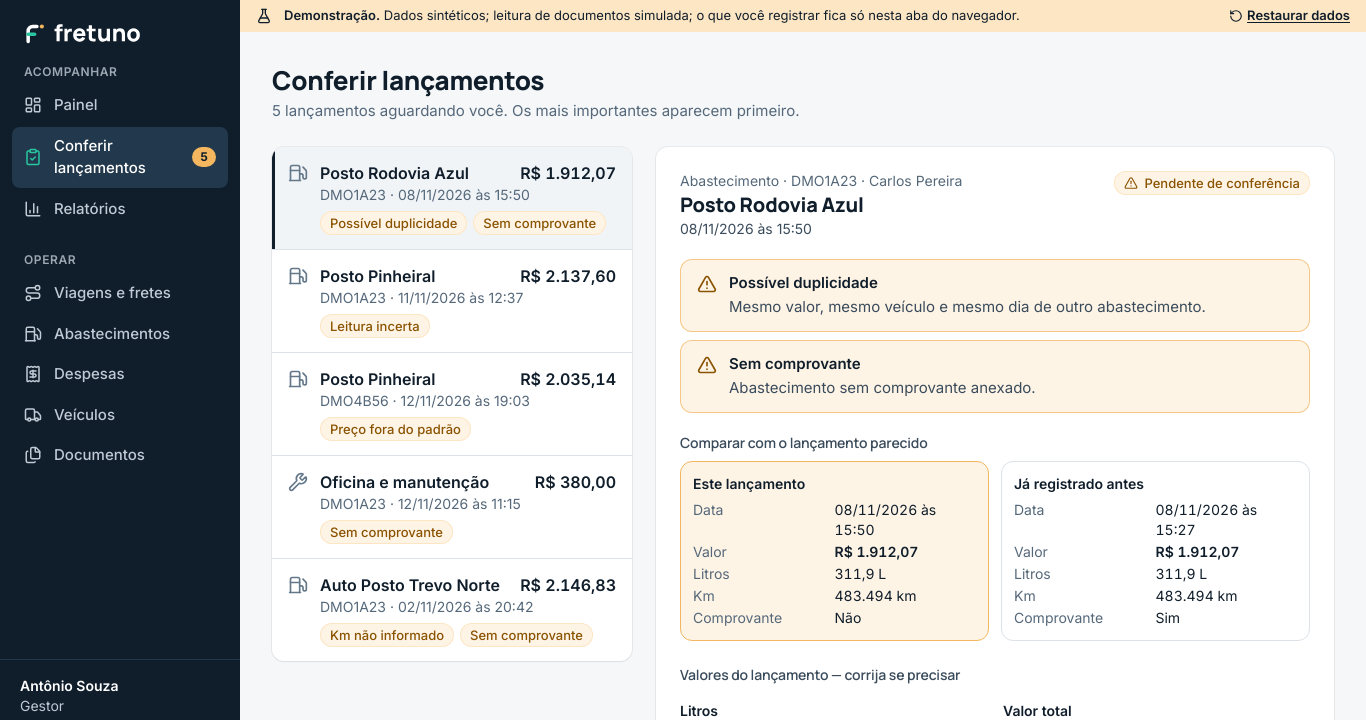
Test: Gestor › aprova leitura incerta só depois de confirmar que conferiu o documento
The image size is (1366, 720).
Later steps or results of the test are not shown.
Click the button "Leitura incerta" at (452, 300), box [272,250,632,352]
(page scrolled)
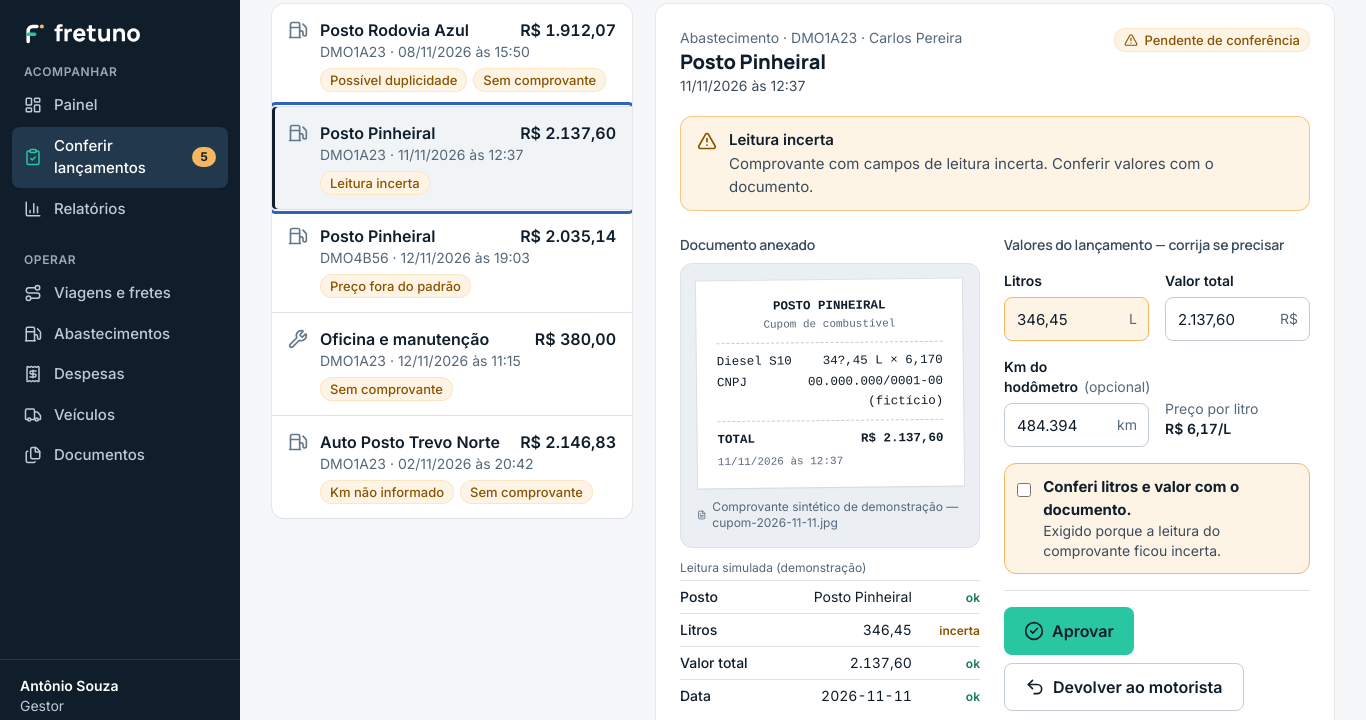
Expected: the text "Comprovante sintético de demonstração" is shown, [712,499,958,514]
Click the button "Aprovar" at (1069, 631), box [1004,607,1134,655]
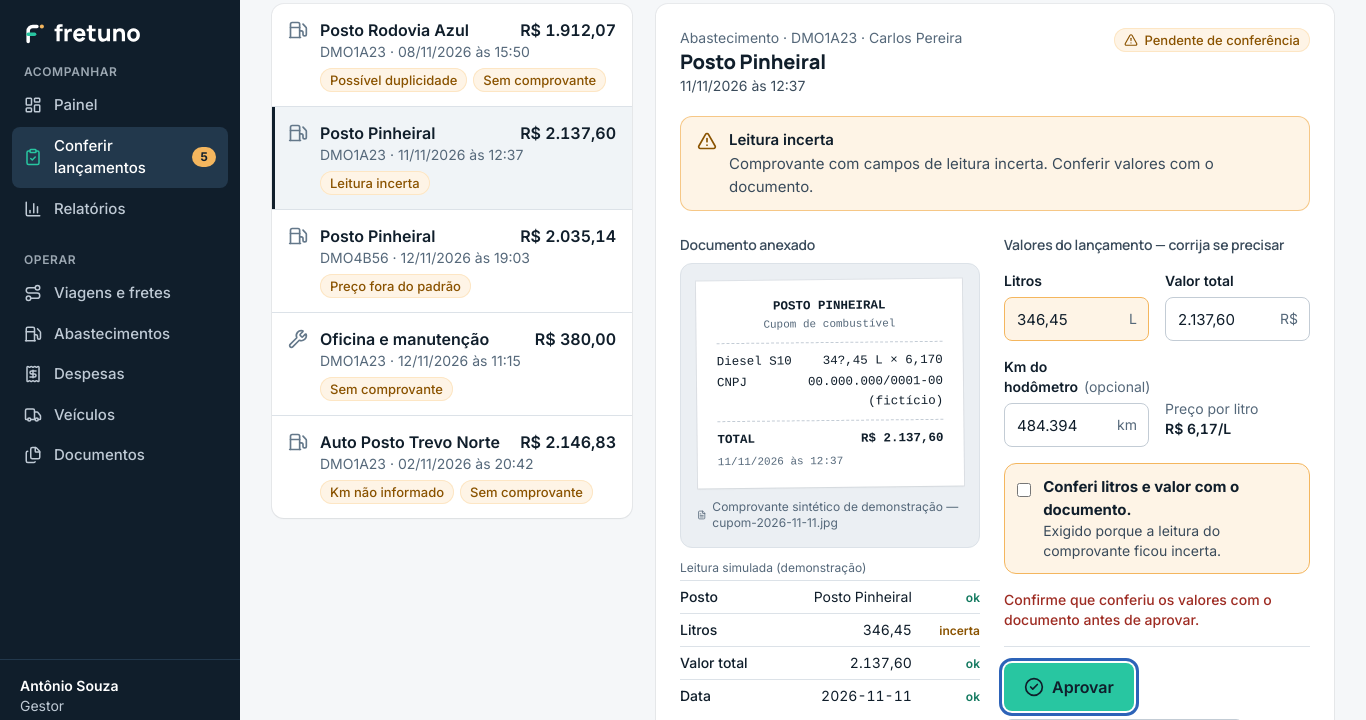
Expected: the text "Confirme que conferiu os valores com o documento antes de aprovar." is shown, [1004,590,1310,630]
